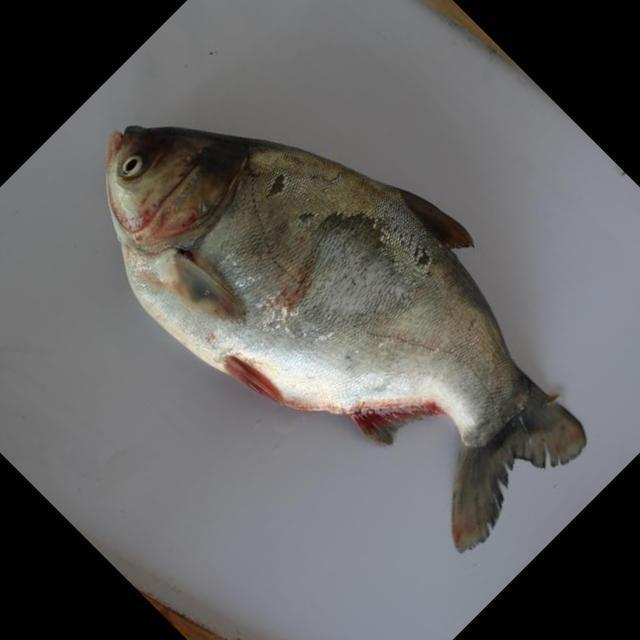Silver Carp: (98, 133, 604, 530)
